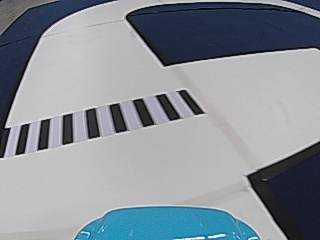CrossWalk: (10, 90, 204, 152)
